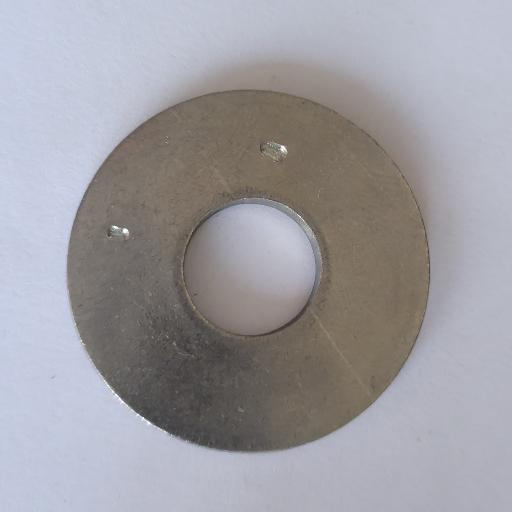circular_cavity: (260, 140, 288, 162), (107, 225, 130, 242)
